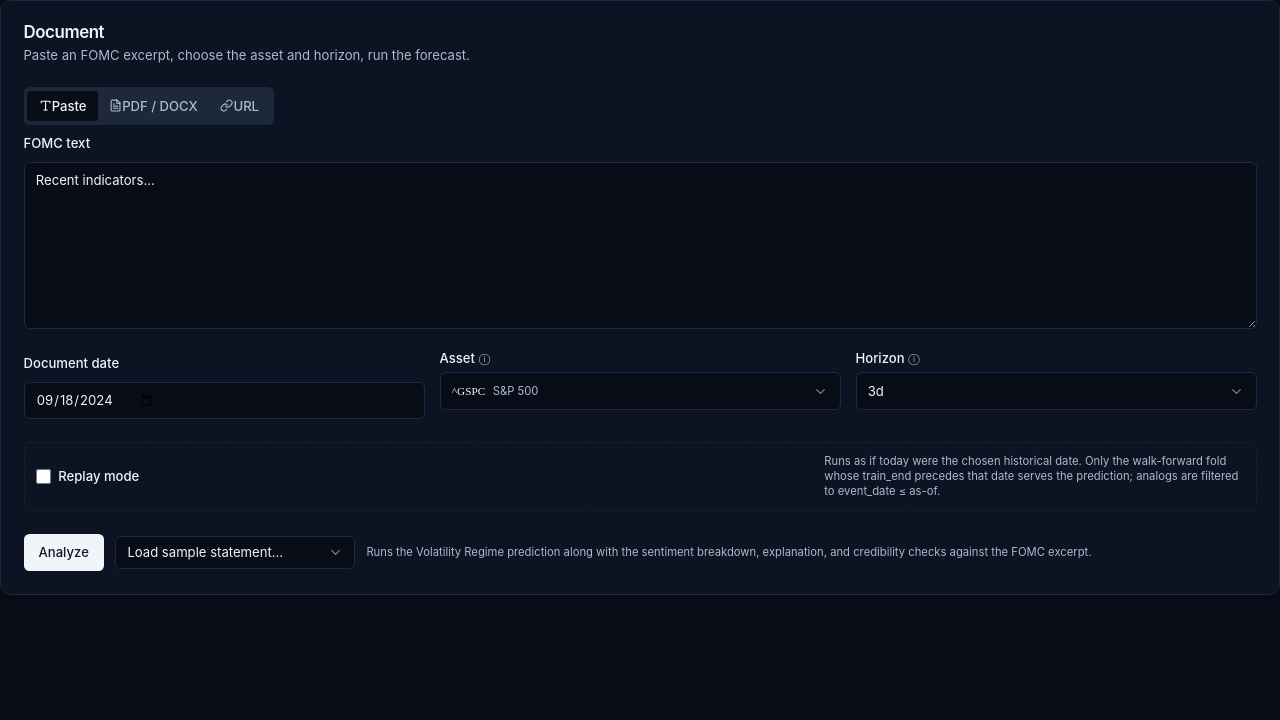
it: AnalyzeForm › asset tooltip reveals the scope-clarification text on hover (#475)
Hover over the button named "What does the asset picker affect?" at (485,358), box [479, 353, 490, 364]
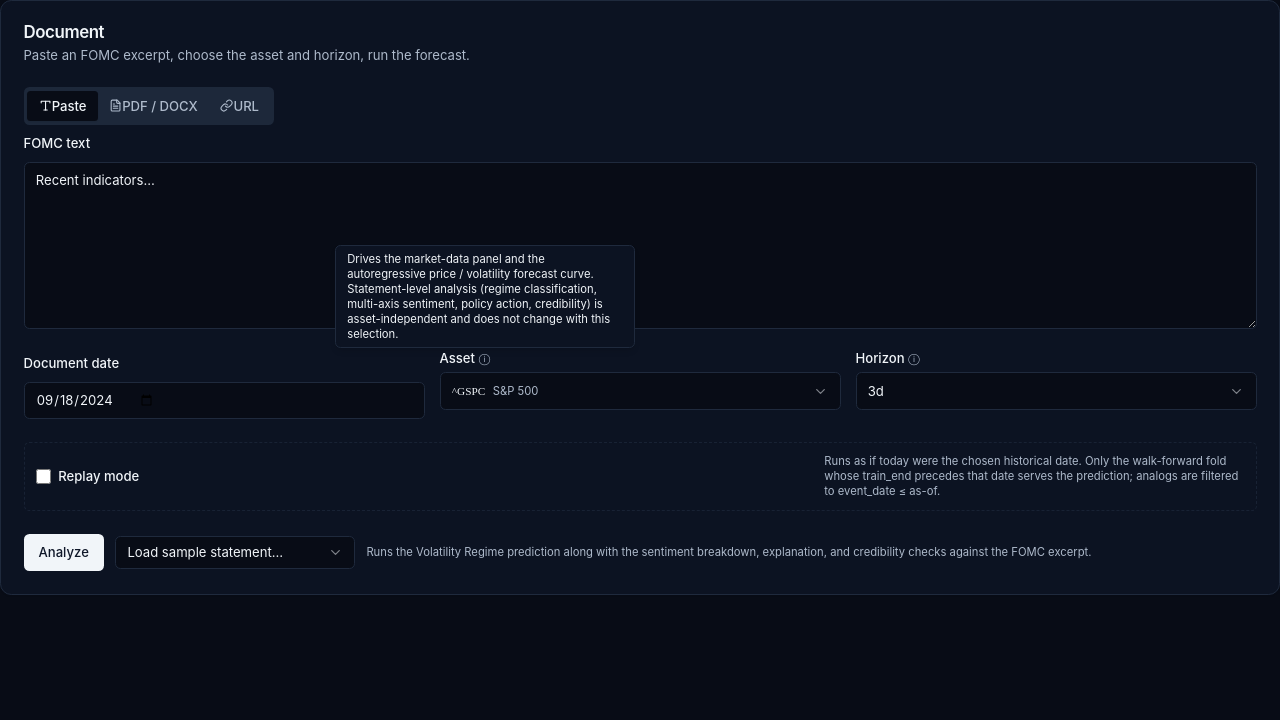
Expected: the tooltip "asset-independent" is shown, [347, 252, 610, 341]
